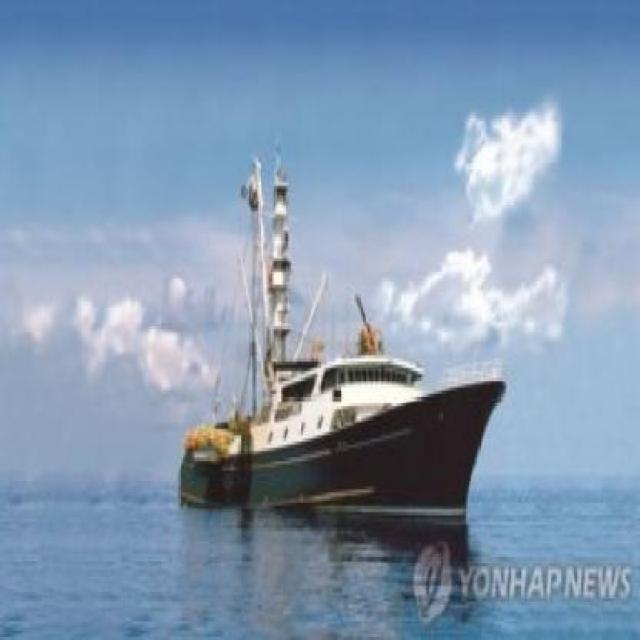fish-b: (170, 119, 512, 552)
